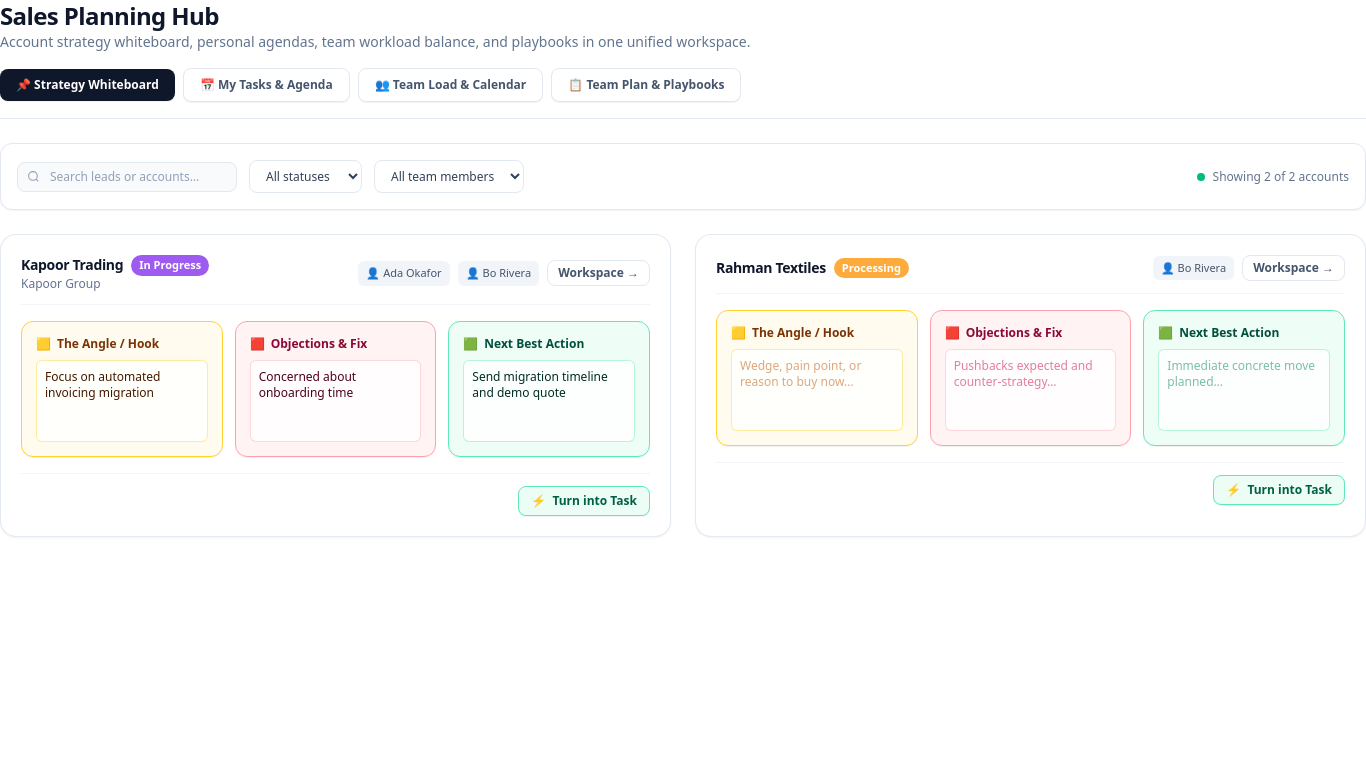
Test: TeamPlanningPage › switches to Team Plan & Playbooks tab
Click the tab "📋 Team Plan & Playbooks" at (646, 85), box [551,68,742,102]
(page scrolled)
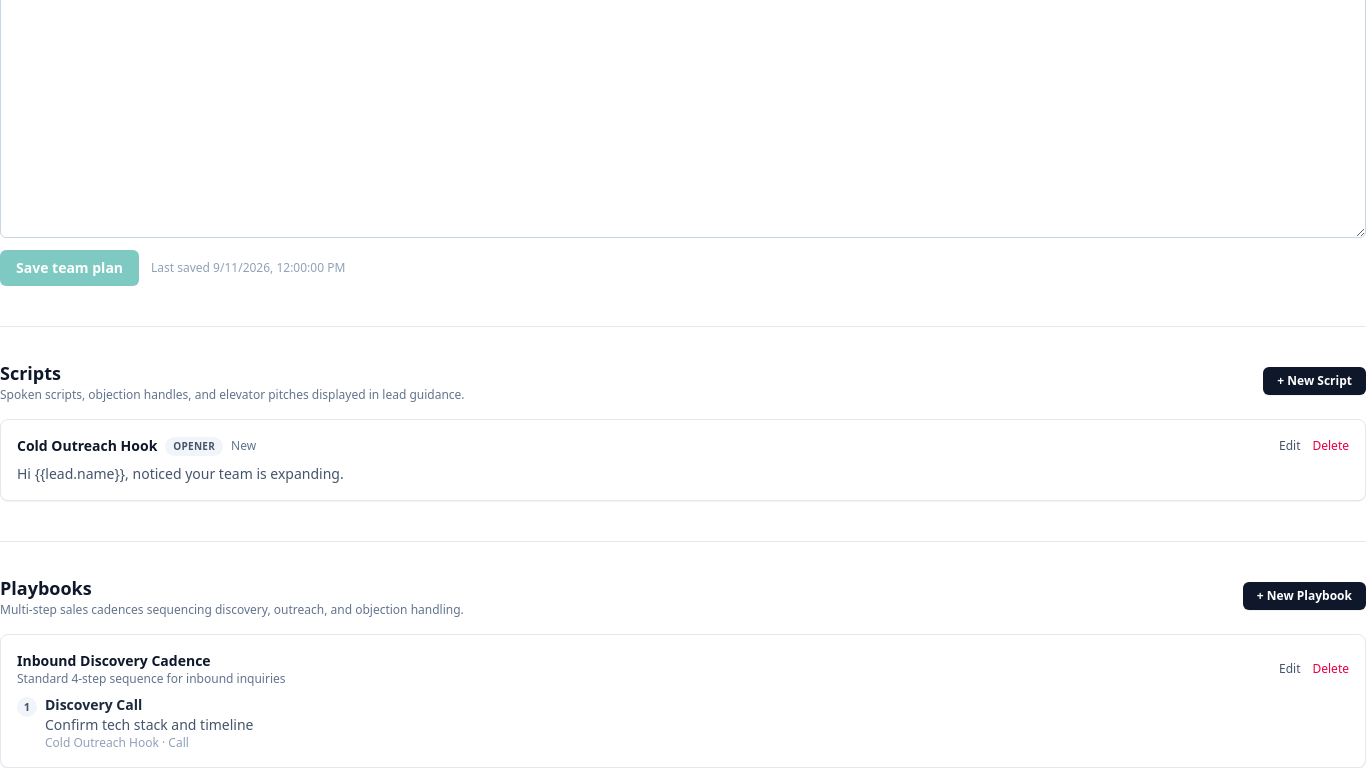
Now the text "Cold Outreach Hook" is shown, box [17,436,157,456]
Now the text "Inbound Discovery Cadence" is shown, box [17,651,211,670]
